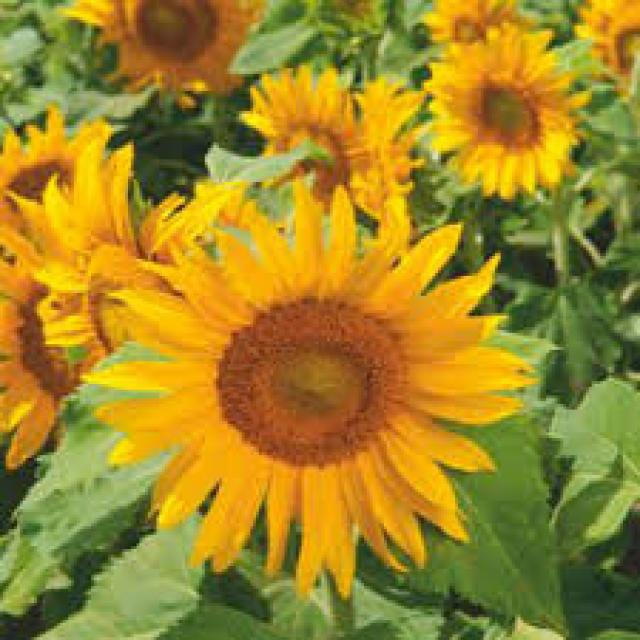sunflower: (74, 163, 553, 613), (17, 125, 291, 444), (217, 52, 442, 248), (414, 21, 593, 210), (0, 221, 126, 480), (51, 0, 289, 112), (0, 102, 122, 276), (404, 0, 540, 60), (571, 0, 640, 116)
